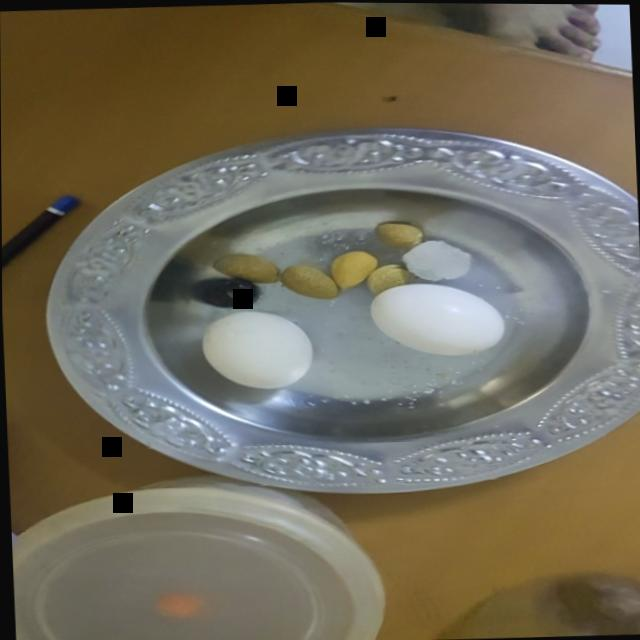eggs: (368, 276, 507, 357), (199, 305, 316, 392)
